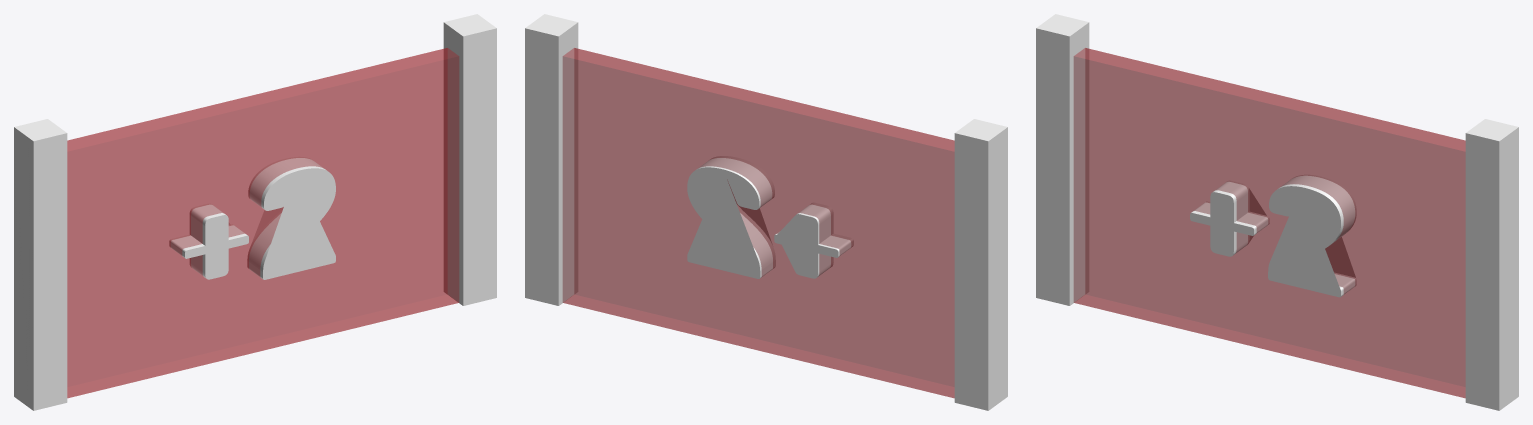
3 renders of one model, left to right at view 1: azimuth 30°, elevation 25°; view 2: azimuth 150°, elevation 25°; view 3: azimuth 330°, elevation 25°, orthographic.
Parts seen in each view (by area): view 1: Cube_3, Cube_1, Cube_2, 2_2, __2; view 2: Cube_3, Cube_1, Cube_2, 2_2, __2; view 3: Cube_3, Cube_2, Cube_1, 2_2, __2.
Boxes of the visible parts, x1=… form: Cube_3: x1=67, y1=48, x2=458, y2=397; Cube_1: x1=14, y1=119, x2=67, y2=410; Cube_2: x1=443, y1=14, x2=496, y2=305; 2_2: x1=247, y1=157, x2=335, y2=279; __2: x1=169, y1=204, x2=248, y2=279; Cube_3: x1=563, y1=48, x2=954, y2=397; Cube_1: x1=954, y1=119, x2=1007, y2=410; Cube_2: x1=525, y1=14, x2=578, y2=305; 2_2: x1=687, y1=156, x2=775, y2=278; __2: x1=774, y1=203, x2=853, y2=278; Cube_3: x1=1074, y1=48, x2=1465, y2=397; Cube_2: x1=1465, y1=119, x2=1518, y2=410; Cube_1: x1=1036, y1=14, x2=1089, y2=305; 2_2: x1=1268, y1=175, x2=1356, y2=297; __2: x1=1190, y1=181, x2=1269, y2=256.
Bounding box in the file's own units: 393 × 219 × 28.63.
